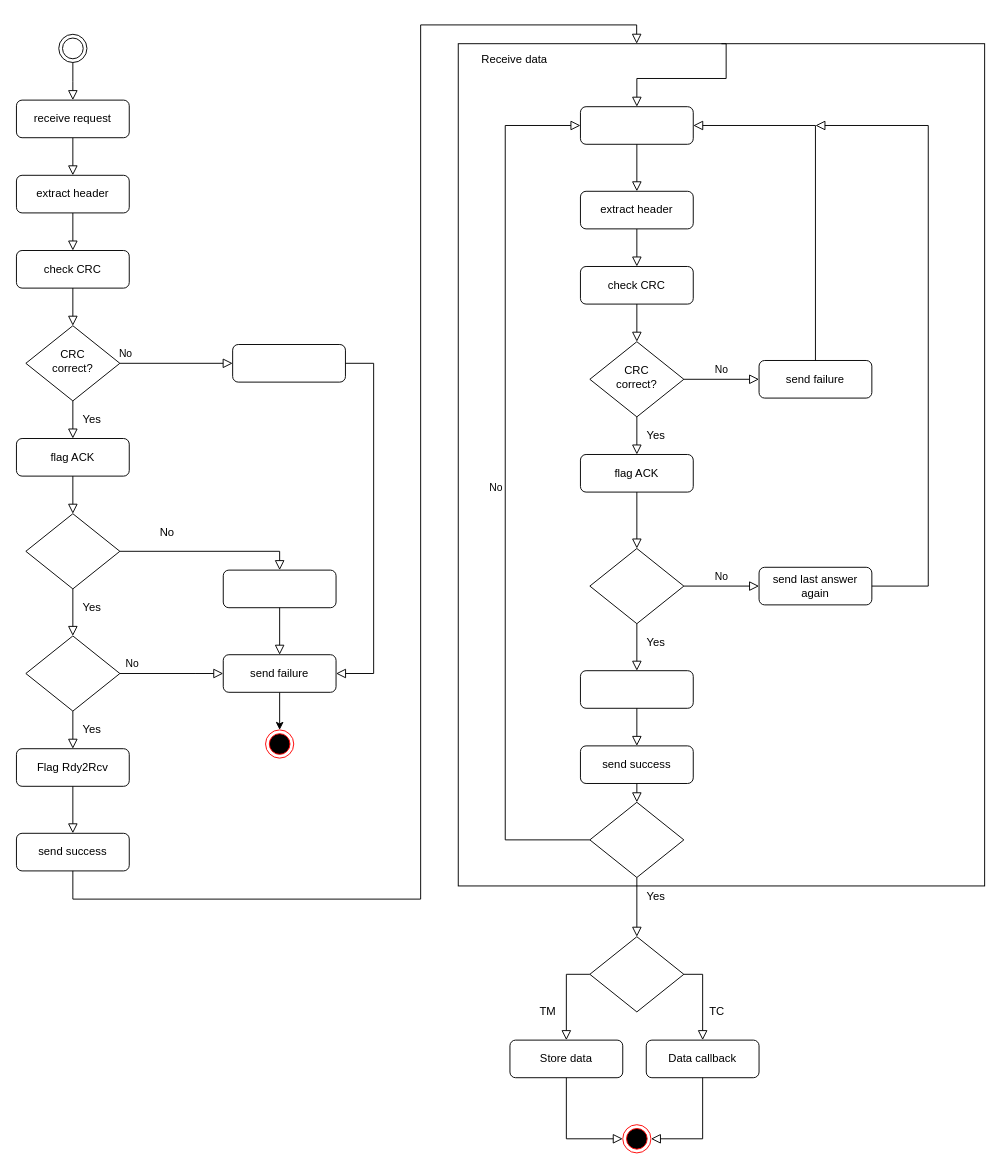
This 1001x1169 diagram has some shape labels left out. The centre of each missing label's shape, as x and y in pixels:
ACK Flag set?: the point at 636,586
add receiced data to buffer: the point at 636,689
END Flag set?: the point at 636,839
ID known?: the point at 72,551
ID type: the point at 636,974
Req2send - Flag set?: the point at 72,673
Set "ID unknown"-Flag: the point at 279,588
Unset all Frags: the point at 288,363
wait on answer: the point at 636,125
